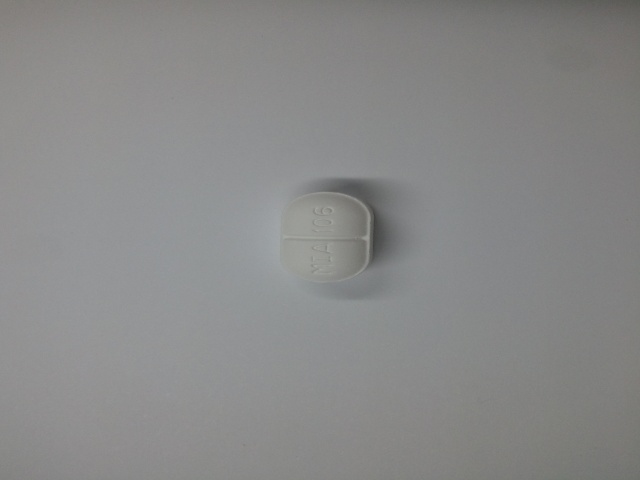0: (311, 217, 337, 228)
1: (311, 229, 338, 235)
6: (312, 204, 335, 217)
A: (310, 242, 337, 256)
I: (310, 257, 335, 263)
M: (311, 263, 337, 276)
|: (276, 231, 382, 245)
